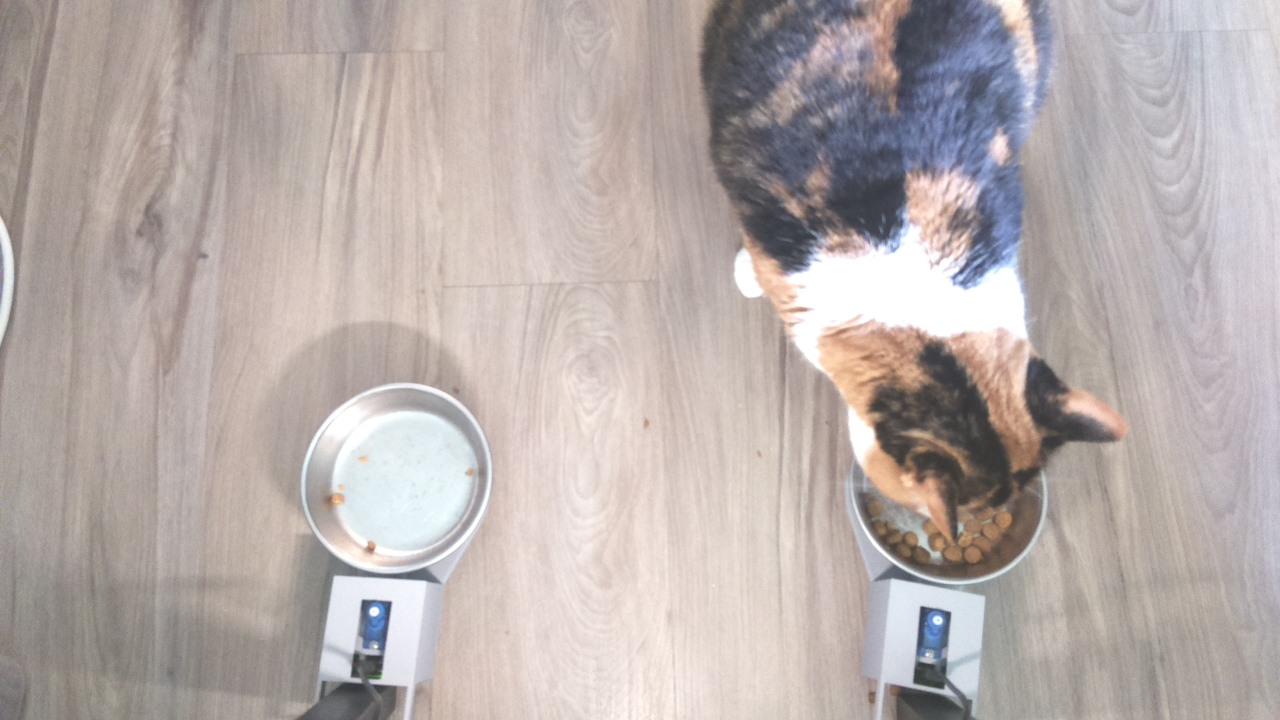bella_eating: (809, 291, 1127, 599)
open_bowl: (301, 382, 494, 578)
